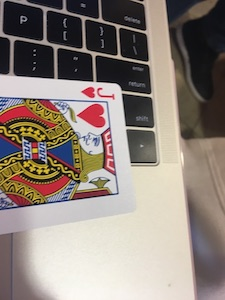JackOfHearts: (1, 73, 140, 232)
